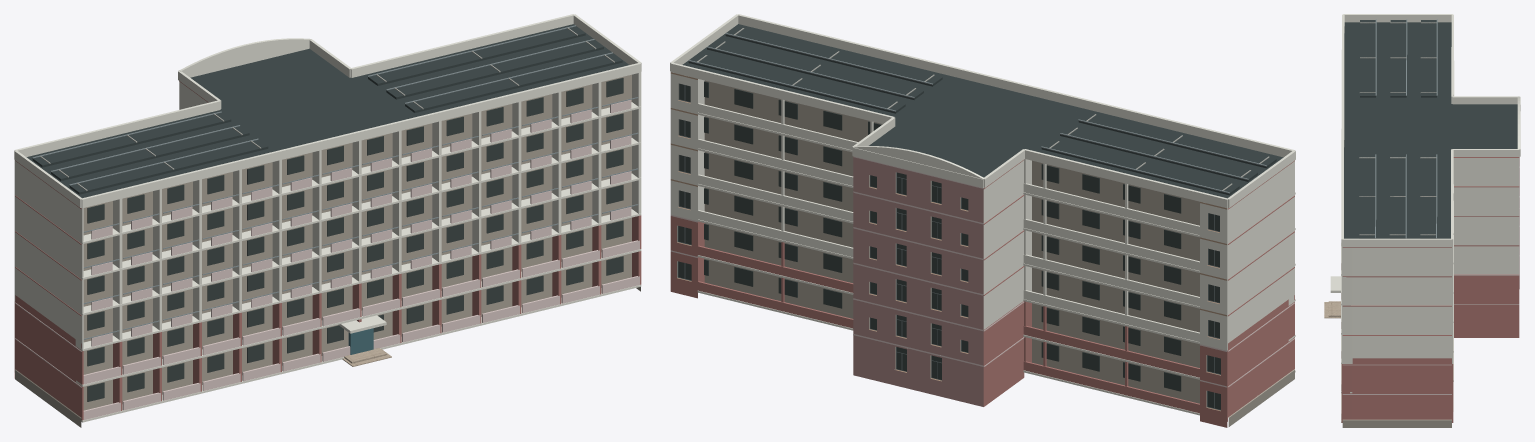
Rendered from chunk-dorm-way-759147073.glb.
The picture shows the model from 3 angles, left to right: view 1: azimuth 30°, elevation 25°; view 2: azimuth 150°, elevation 25°; view 3: azimuth 270°, elevation 25°; orthographic projection. The views are drawn at different scales.
Visible parts, largest first — view 1: chunk-dorm-way-759147073; view 2: chunk-dorm-way-759147073; view 3: chunk-dorm-way-759147073.
Boxes of the visible parts, x1,y1,x2,y2 form: chunk-dorm-way-759147073: [14, 14, 641, 427]; chunk-dorm-way-759147073: [670, 14, 1295, 427]; chunk-dorm-way-759147073: [1324, 14, 1520, 427].
Size of the model in its own units: 54.3 by 22.1 by 19.97.
13 materials, 2 textured.
